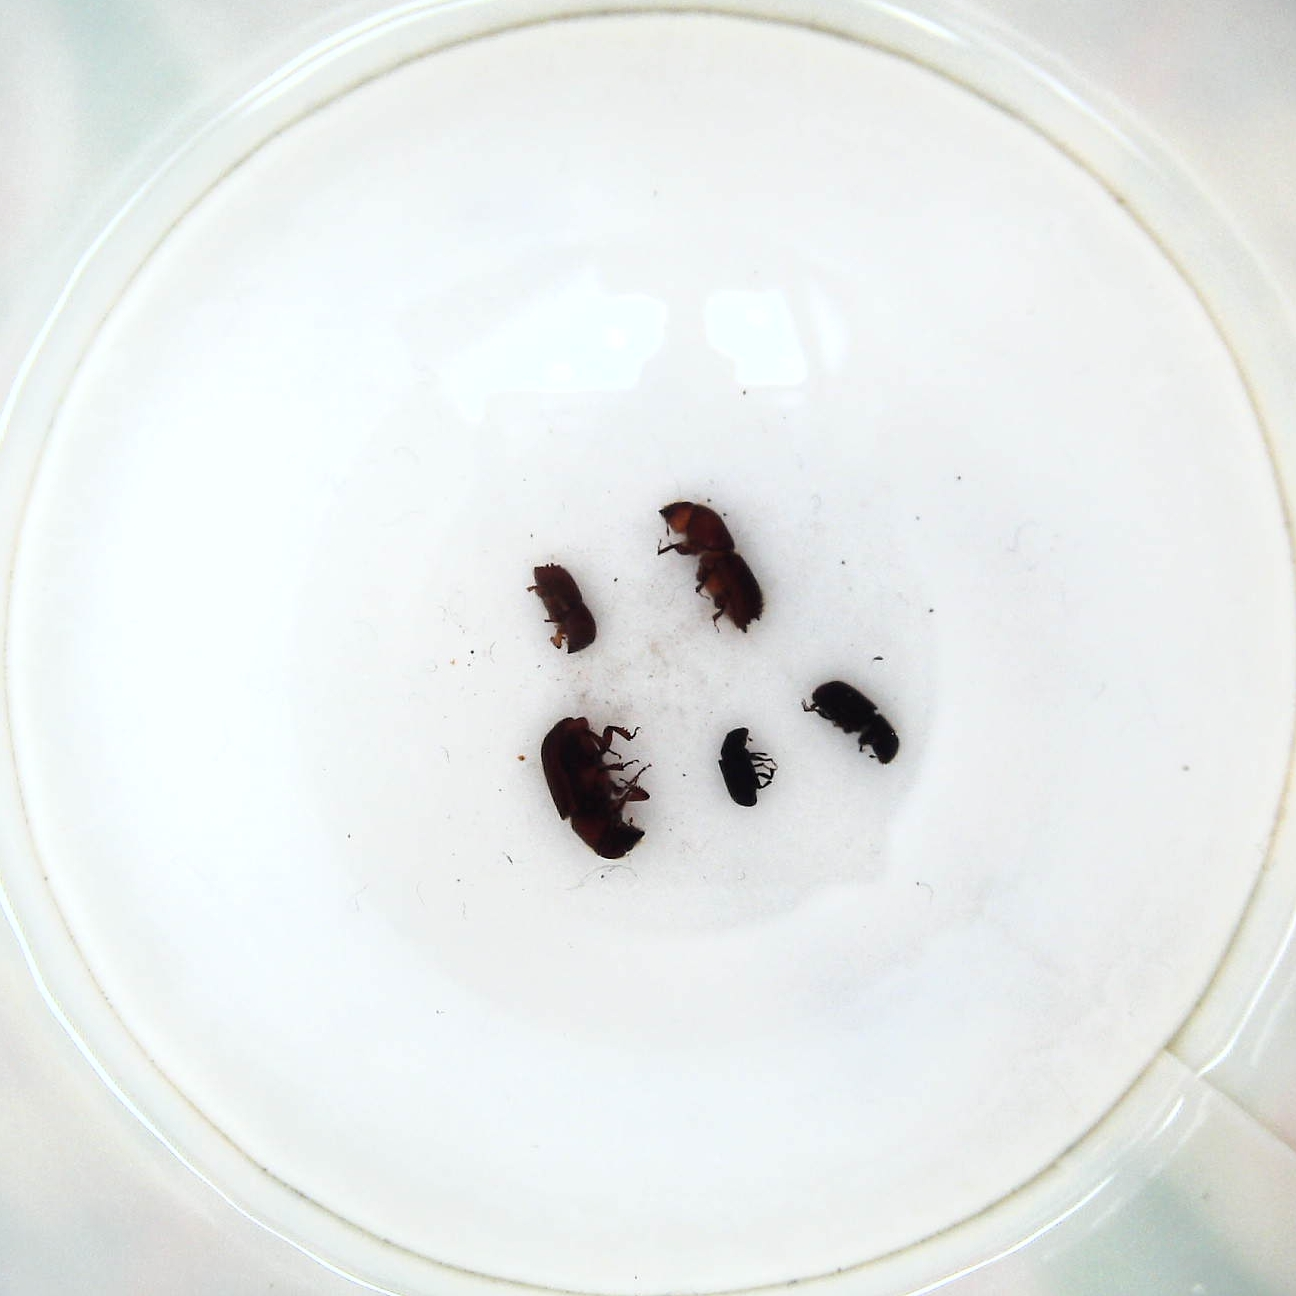Boerner: (652, 494, 768, 639)
Leconte: (534, 711, 656, 868)
armandi: (800, 676, 900, 771)
coleoptera: (712, 725, 775, 811)
linnaeus: (525, 557, 601, 660)
